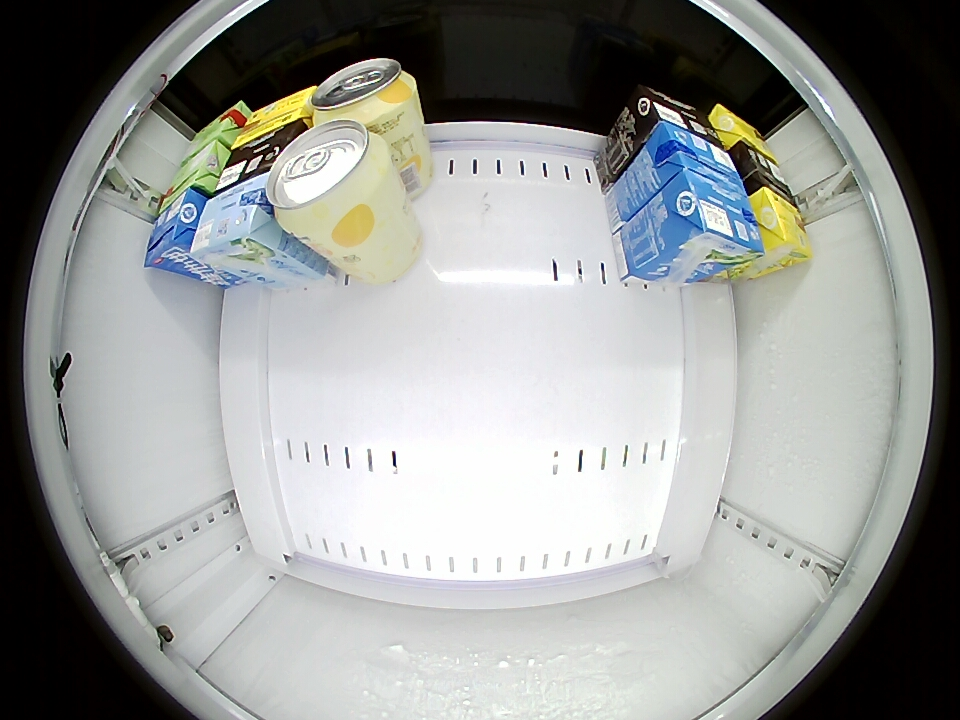mangguoxiaolao: (266, 117, 392, 240), (311, 58, 416, 126)
wanglaoji: (162, 140, 229, 207), (182, 101, 250, 163)
weitanai: (658, 167, 763, 265), (645, 122, 744, 193), (143, 189, 206, 272)
weitanai2: (214, 123, 302, 195), (625, 86, 719, 145), (731, 141, 796, 205)
weitanaiditang: (192, 176, 273, 263)
weitaningmeng: (749, 187, 812, 269), (234, 86, 316, 148), (710, 104, 779, 163)
